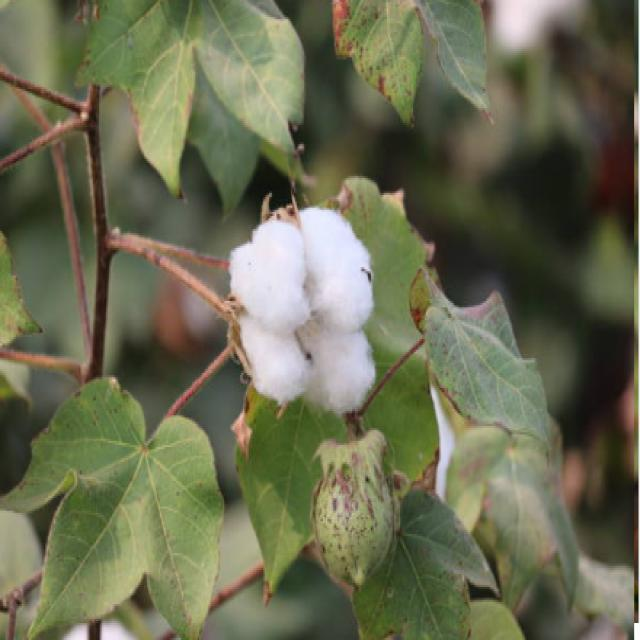Early Boll: (312, 439, 402, 601)
Matured Cotton Boll: (224, 201, 380, 415)
